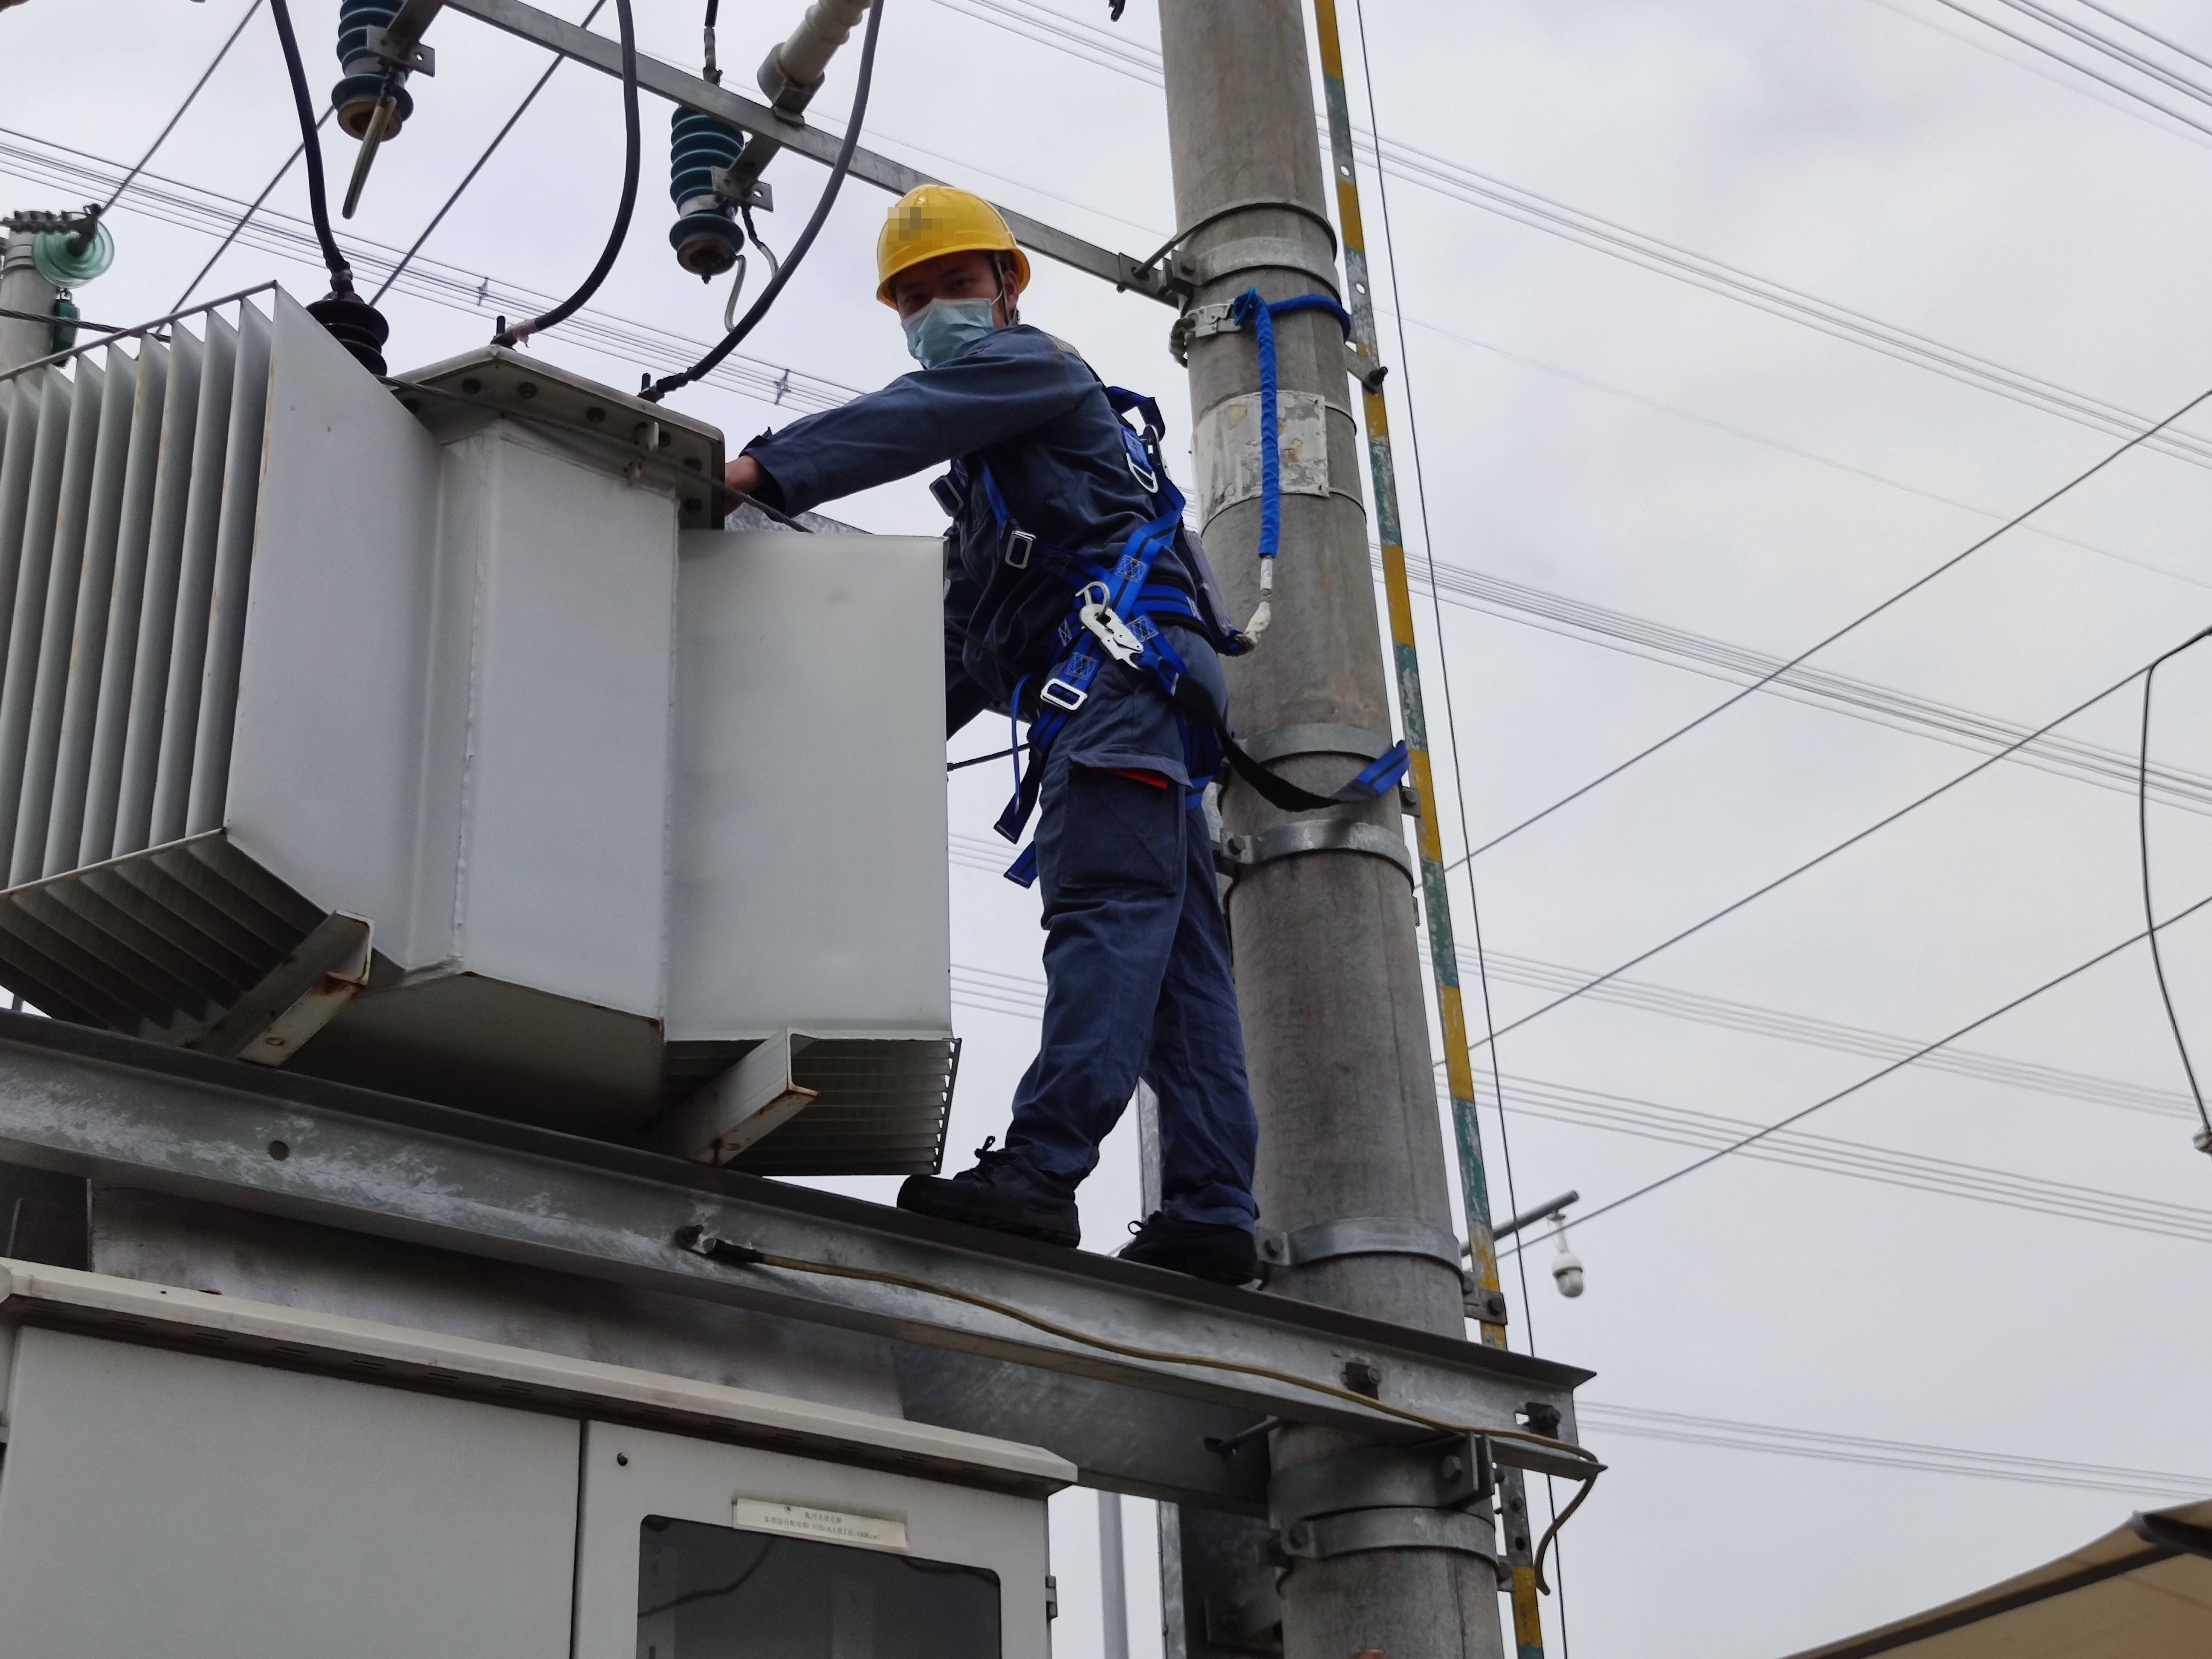downsuit: (1001, 659, 1261, 1195)
upsuit: (751, 326, 1226, 620)
